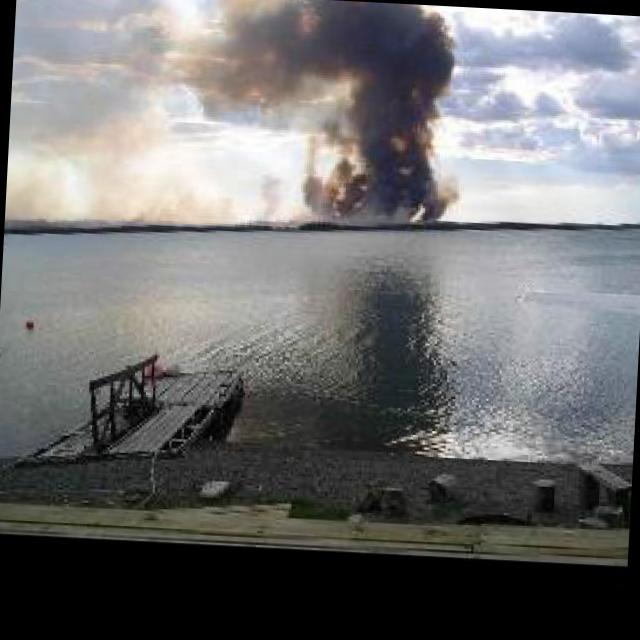smoke: (266, 0, 466, 226)
